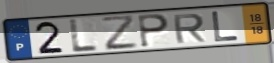2: (33, 21, 65, 56)
L: (69, 18, 102, 54), (210, 10, 241, 44)
P: (136, 13, 171, 49)
R: (171, 12, 208, 45)
Z: (99, 14, 140, 52)
